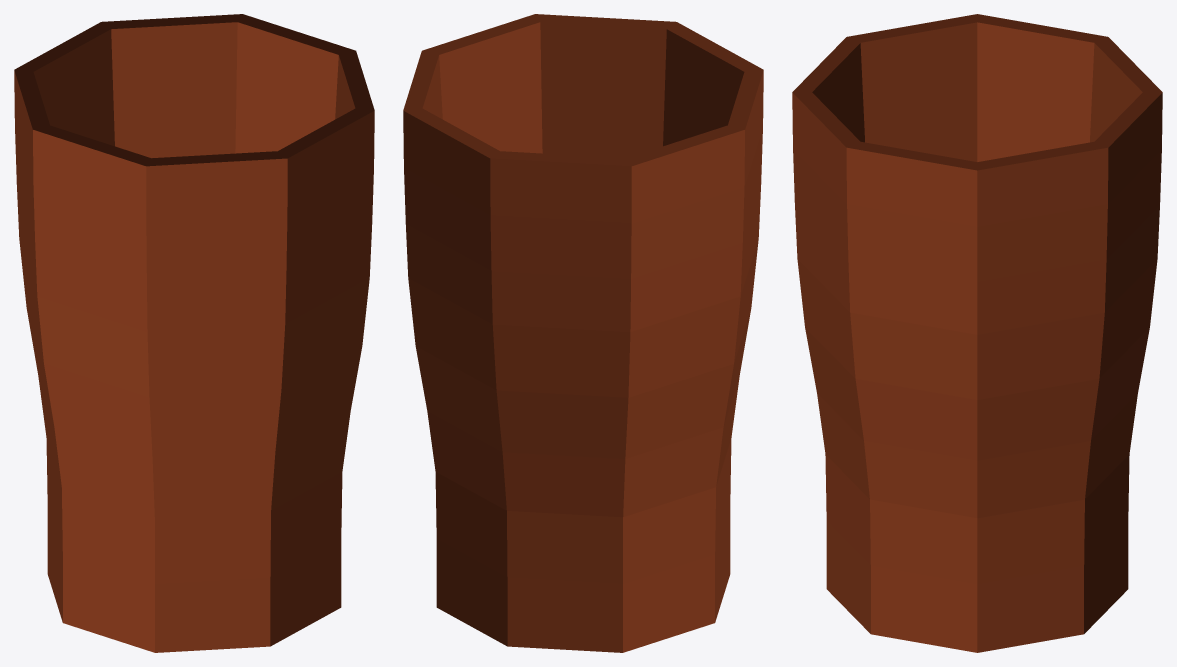
Rendered from Vase 1.fbx.
The picture shows the model from 3 angles, left to right: view 1: azimuth 30°, elevation 25°; view 2: azimuth 150°, elevation 25°; view 3: azimuth 270°, elevation 25°; orthographic projection.
Visible parts, largest first — view 1: Node 0; view 2: Node 0; view 3: Node 0.
Boxes of the visible parts, <box> form: Node 0: <box>14,14,374,652</box>; Node 0: <box>403,14,763,652</box>; Node 0: <box>792,14,1162,652</box>.
Size of the model in its own units: 0.1446 by 0.2141 by 0.1446.
